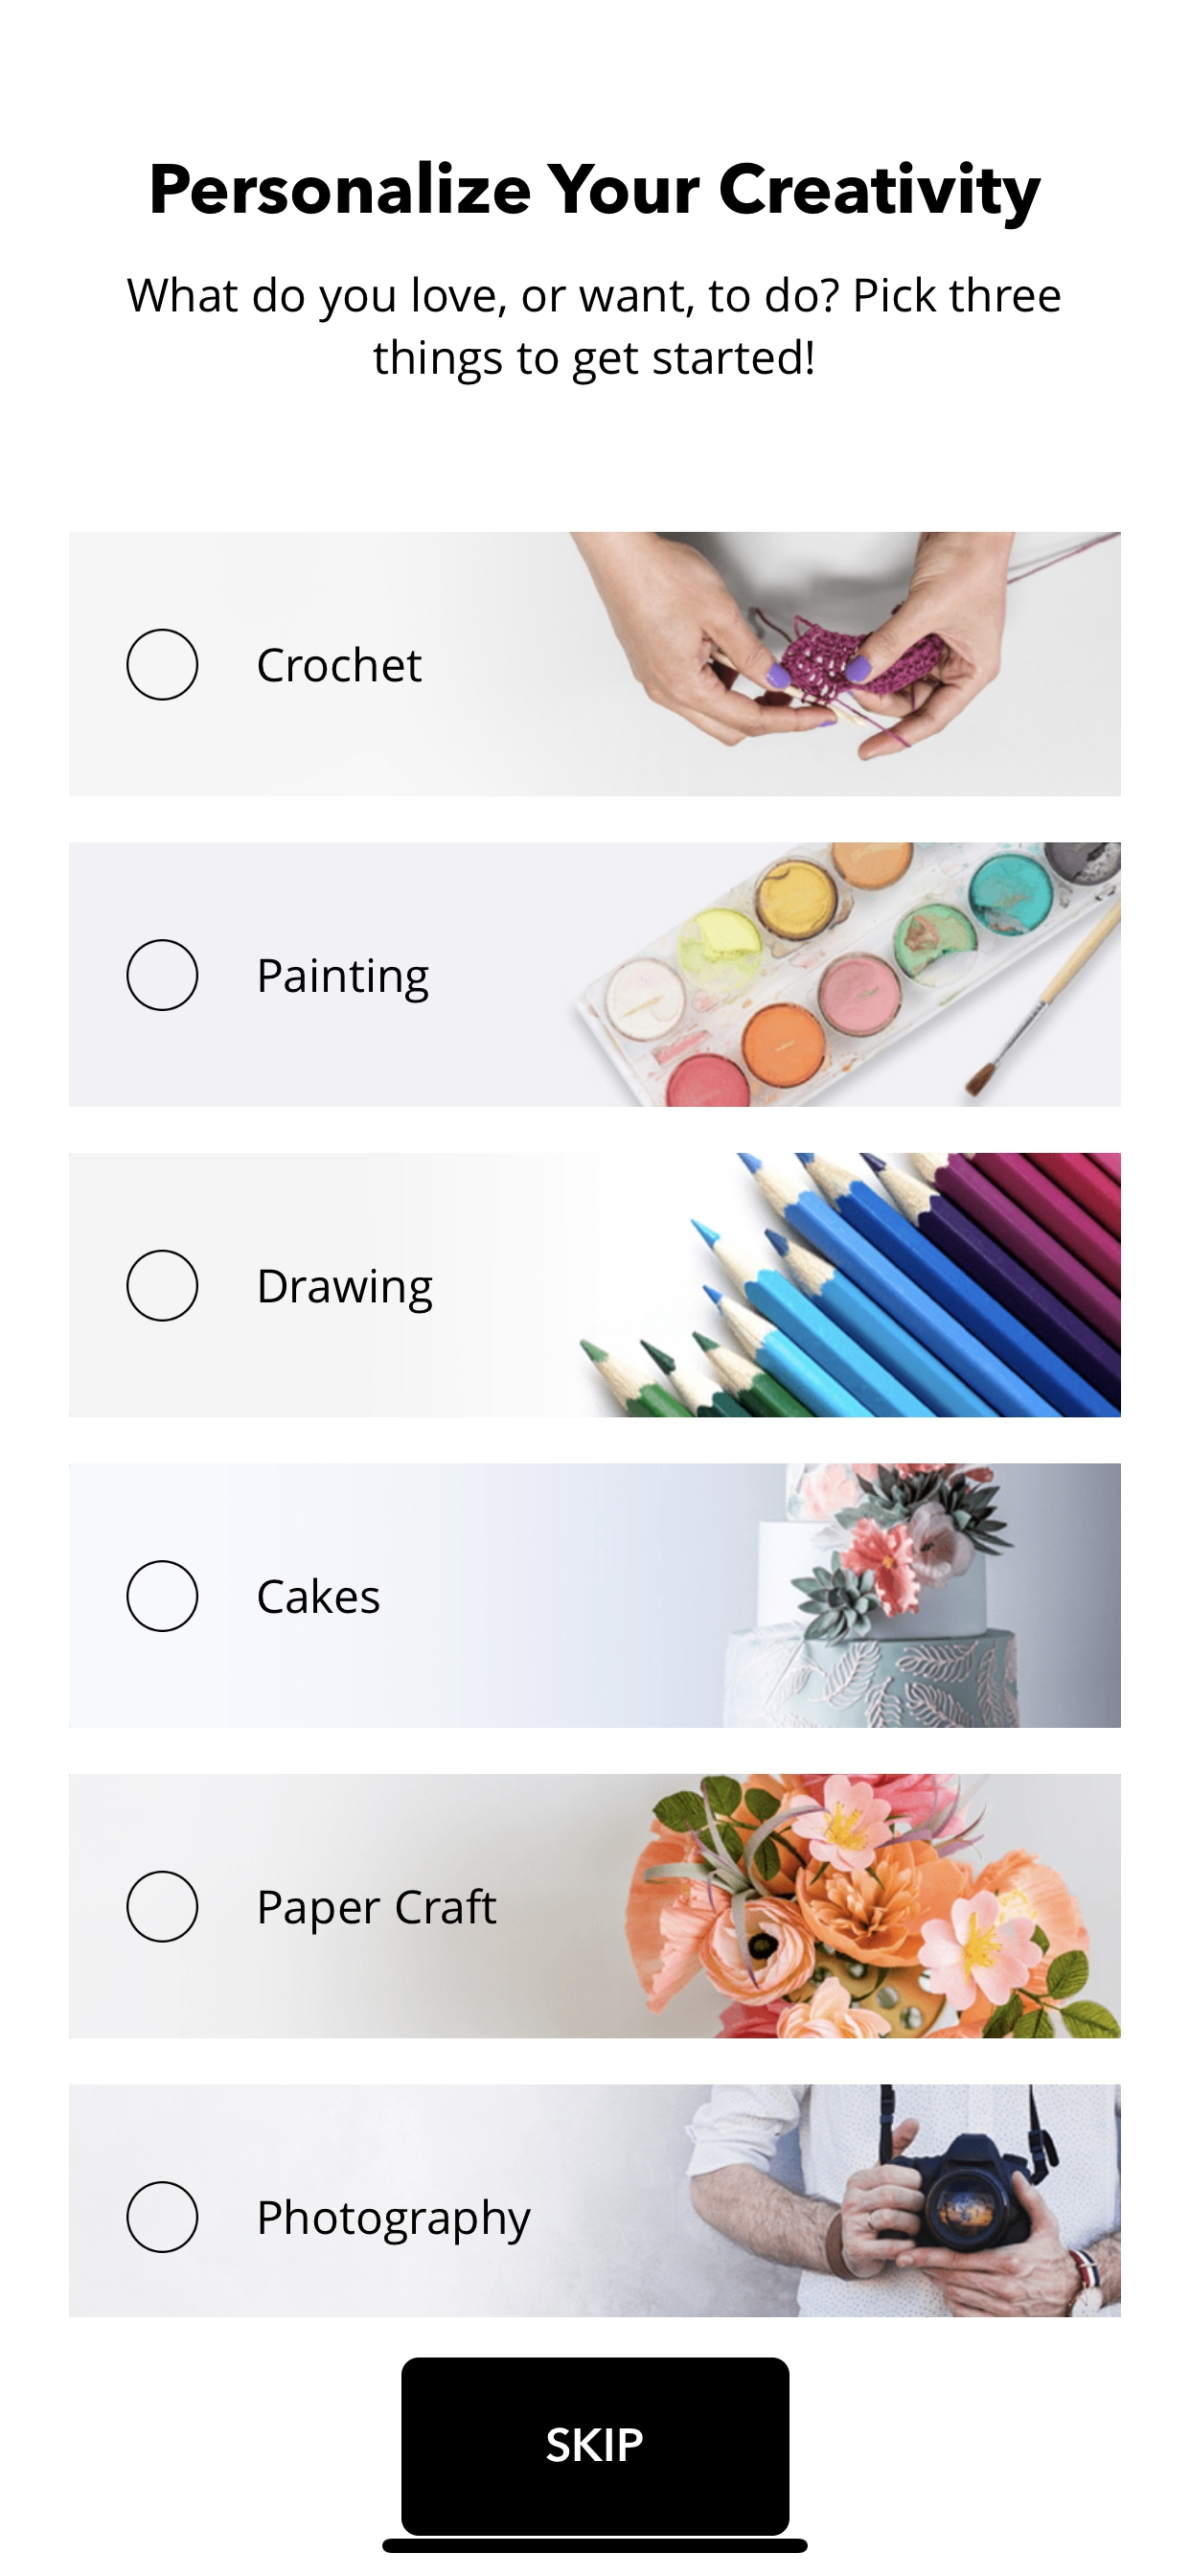BackgroundImage: (71, 532, 1121, 797), (71, 843, 1121, 1107), (71, 1153, 1121, 1418), (71, 1464, 1121, 1728), (71, 1774, 1121, 2039), (71, 2085, 1121, 2316)
CheckedTextView: (125, 2178, 533, 2256), (125, 1870, 498, 1943), (127, 936, 432, 1014), (125, 1249, 436, 1322), (127, 628, 426, 703), (125, 1561, 381, 1635)
Text: (128, 278, 1060, 386), (153, 161, 1042, 232), (261, 2198, 533, 2246), (261, 1888, 498, 1935), (260, 1268, 434, 1314), (261, 958, 431, 1004), (258, 647, 422, 683), (258, 1577, 380, 1615)
TextButton: (403, 2357, 791, 2537)
